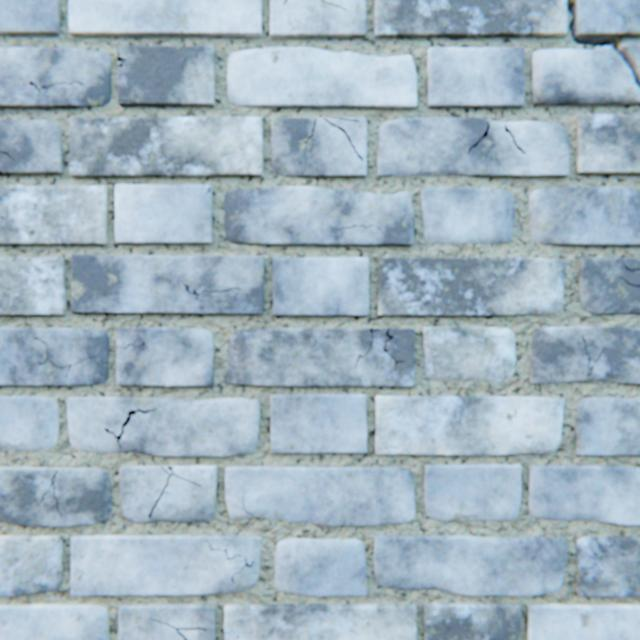brick: (71, 118, 263, 178), (374, 534, 565, 594), (72, 534, 262, 594), (228, 49, 416, 109), (377, 118, 567, 177), (375, 395, 563, 454), (73, 255, 264, 313), (69, 397, 259, 455), (225, 328, 413, 386), (226, 466, 414, 524), (225, 187, 413, 245), (378, 258, 565, 315), (374, 0, 565, 39), (70, 0, 261, 38), (225, 602, 415, 639), (0, 49, 112, 109), (0, 466, 112, 525), (527, 465, 639, 524), (528, 187, 639, 245), (529, 326, 639, 384), (0, 186, 108, 245), (0, 328, 109, 385), (118, 47, 214, 107), (427, 49, 523, 108), (117, 327, 214, 385), (116, 185, 212, 243), (272, 118, 366, 177), (271, 394, 366, 452), (273, 258, 368, 315), (424, 463, 520, 519), (121, 465, 217, 521), (421, 188, 513, 244), (275, 538, 366, 594), (422, 326, 514, 381), (526, 602, 639, 639), (0, 603, 110, 639), (574, 535, 639, 595), (0, 257, 67, 315), (575, 115, 639, 175), (0, 534, 64, 594), (574, 397, 639, 454), (270, 0, 365, 39), (423, 601, 519, 639), (119, 602, 215, 639), (578, 258, 639, 314), (0, 121, 63, 175), (0, 395, 59, 449), (574, 0, 639, 38), (0, 0, 61, 36)
broken_brick: (531, 47, 639, 105), (620, 45, 639, 76)
crack: (565, 0, 639, 89), (149, 466, 201, 518), (105, 408, 157, 447), (323, 119, 362, 162), (150, 616, 206, 639), (183, 284, 241, 301), (383, 328, 403, 370), (207, 538, 243, 558), (467, 122, 488, 155), (49, 468, 62, 518), (503, 126, 524, 154), (580, 334, 590, 376), (318, 0, 346, 11), (305, 119, 316, 143), (238, 555, 253, 572), (48, 82, 84, 89), (58, 363, 75, 377), (368, 328, 378, 351), (354, 352, 366, 368), (618, 277, 639, 286), (118, 342, 148, 348), (593, 347, 604, 362), (30, 83, 46, 93), (35, 336, 48, 347), (40, 350, 49, 364), (332, 118, 360, 122), (118, 54, 126, 67), (622, 265, 639, 271), (337, 225, 357, 230), (244, 505, 253, 514), (126, 101, 143, 105), (0, 152, 11, 157), (382, 445, 396, 448), (232, 572, 236, 581), (359, 225, 373, 227)
